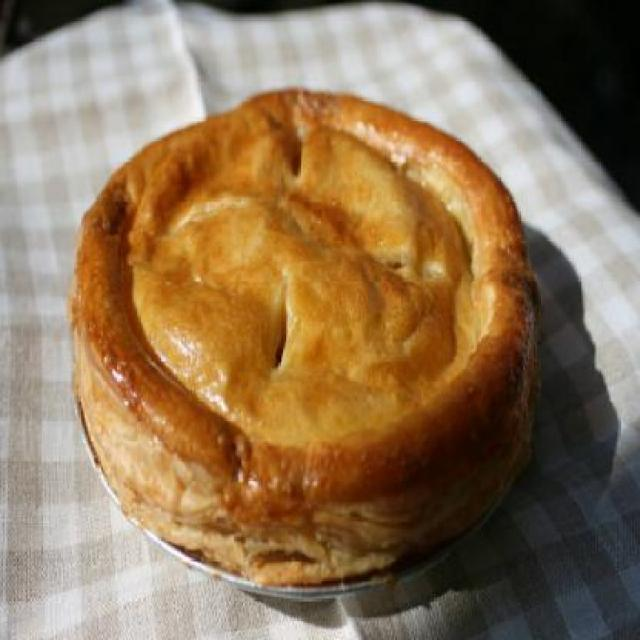Apple: (67, 85, 544, 584)
